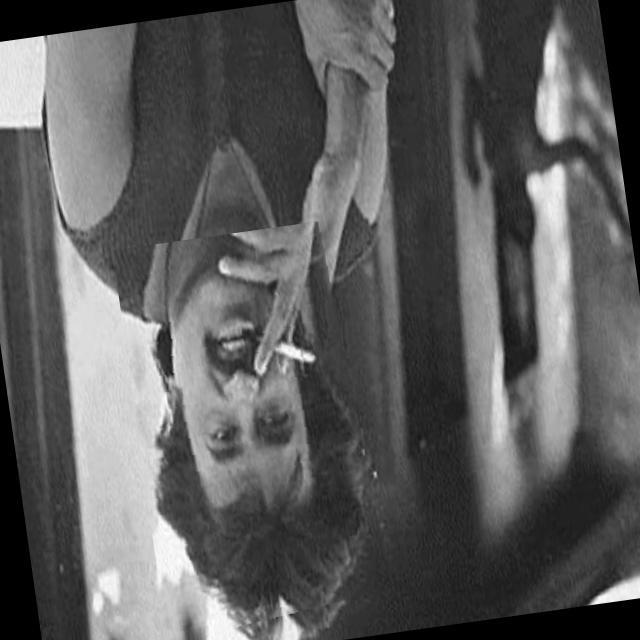cigarette: (266, 321, 347, 405)
